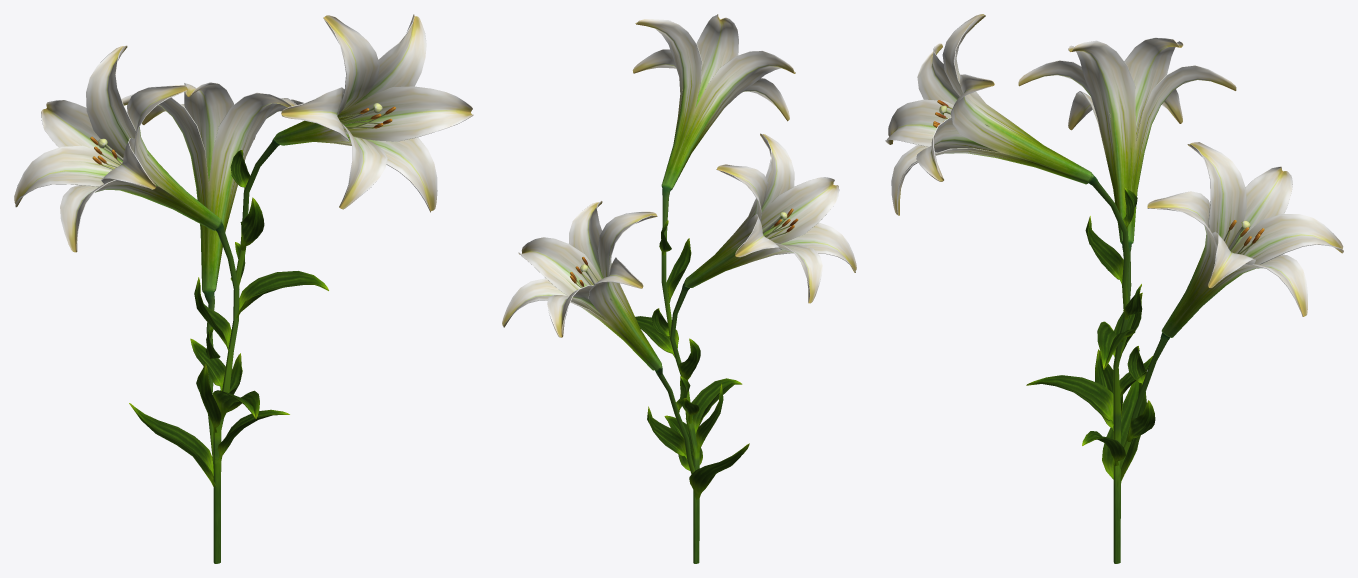
The model's file is Lilly.glb.
3 views of the same model, side by side, from view 1: azimuth 30°, elevation 25°; view 2: azimuth 150°, elevation 25°; view 3: azimuth 270°, elevation 25° (orthographic). The views are drawn at different scales.
Parts seen in each view (by area): view 1: 2024ユリ0.1; view 2: 2024ユリ0.1; view 3: 2024ユリ0.1.
Part boxes in pixels (x1,y1,x2,y2): 2024ユリ0.1: (14, 14, 473, 563); 2024ユリ0.1: (502, 14, 856, 563); 2024ユリ0.1: (885, 14, 1343, 563).
Bounding box in the file's own units: 0.5838 × 0.9735 × 0.7135.
Materials: 5 (5 with a texture image).
